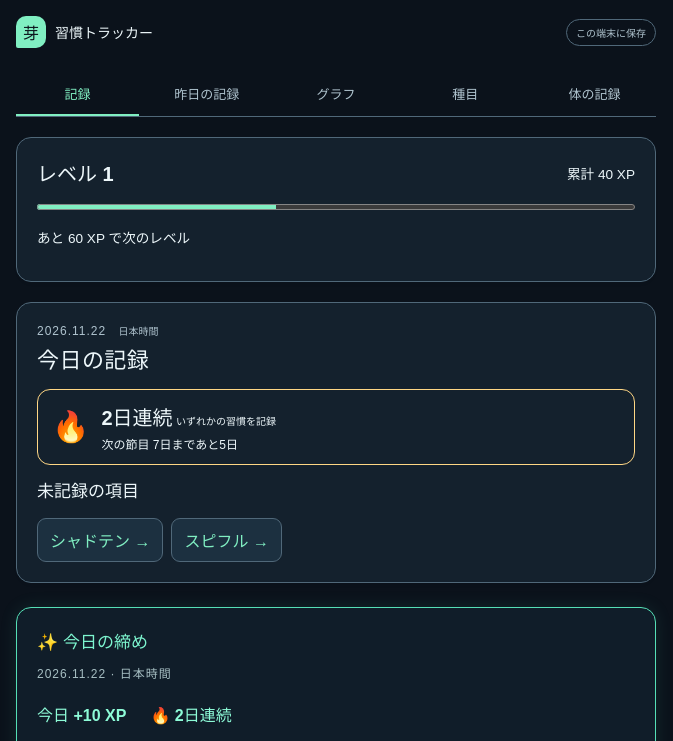
Test: workout sets UI › shows yesterday’s sets in the review
Click the button "昨日の記録" at (207, 94), box [145,72,268,116]
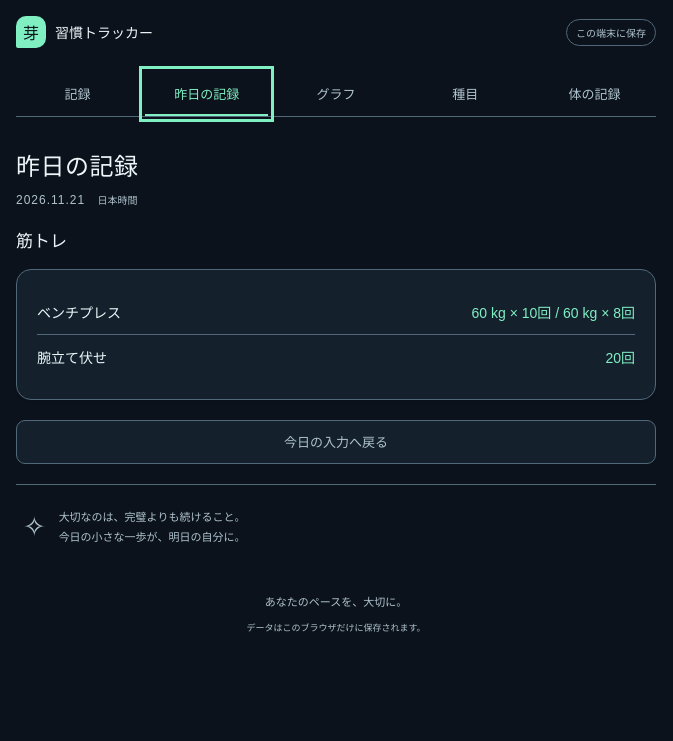
Result: the text "60 kg × 10回 / 60 kg × 8回" is shown at [472,302,635,322]
Result: the text "20回" is shown at [605,347,635,367]
